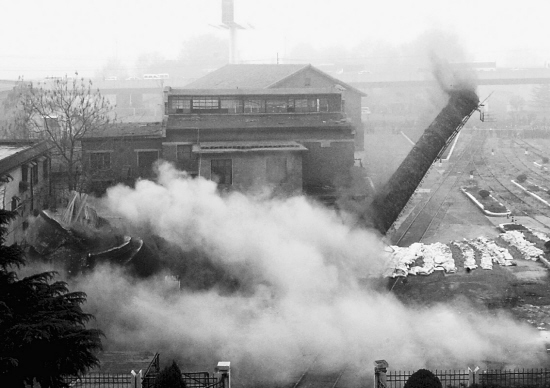dust: (421, 37, 506, 108)
